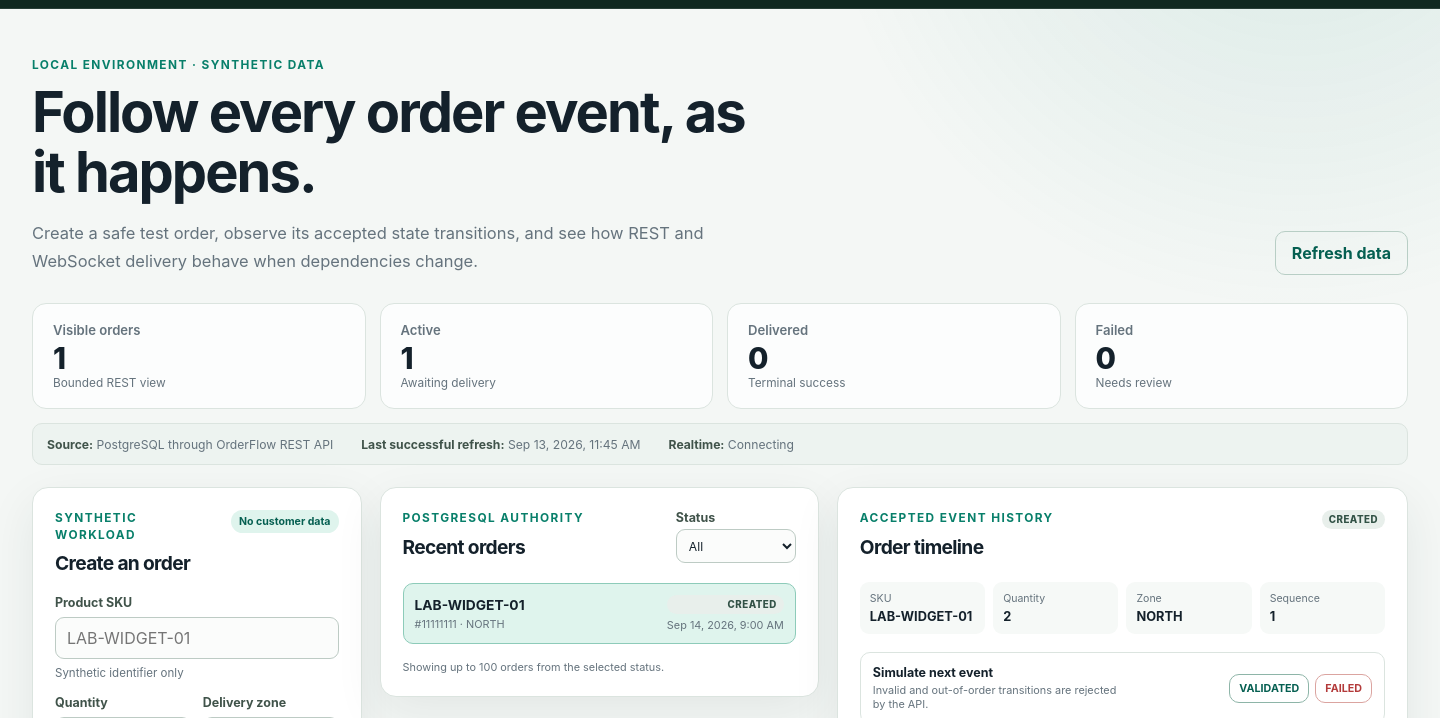
Test: OrderFlow dashboard › creates a validated synthetic order with the documented request shape
Check: the button "LAB-WIDGET-01" is shown, box [402,583,796,644]
In the field labelled "Product SKU": (197, 638) [55,617,338,659], type "demo-part-02"
(page scrolled)
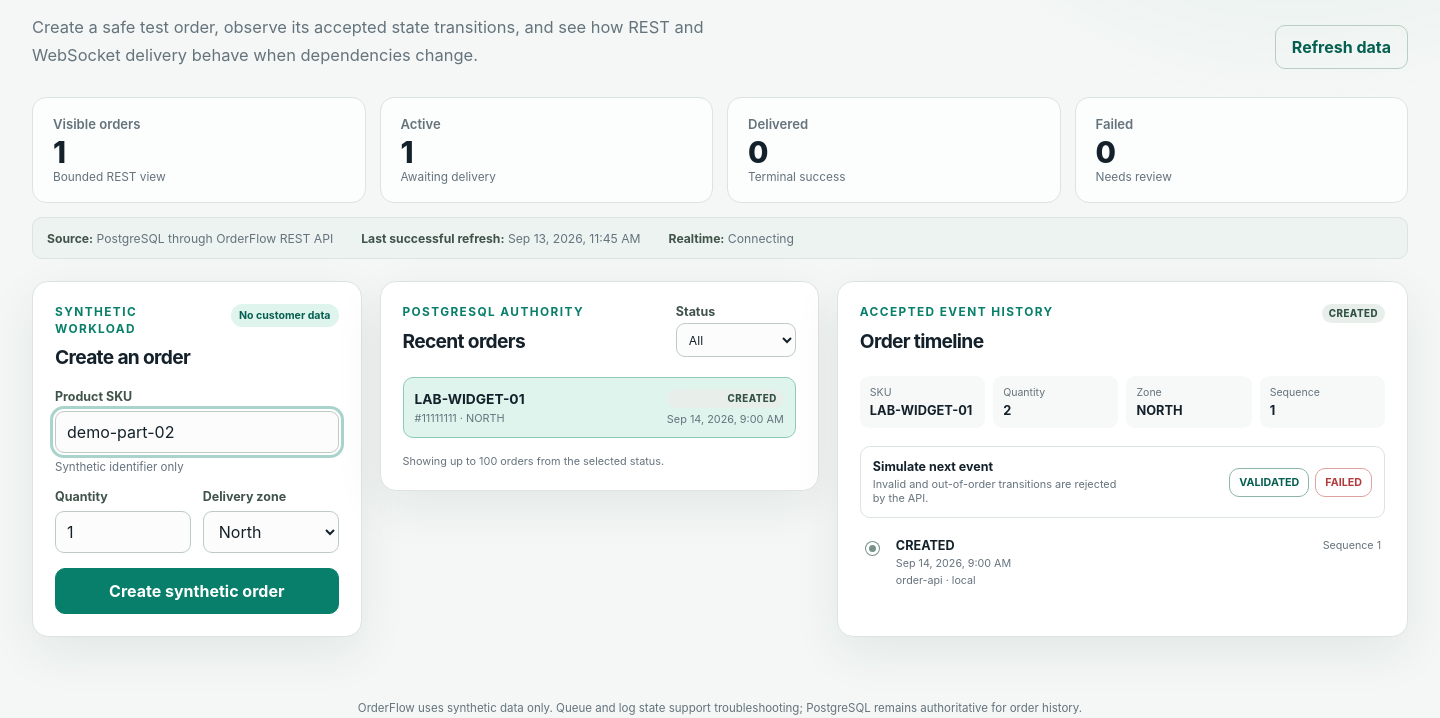
Replace the text in the number field labelled "Quantity" with "4": (123, 532) [55,511,191,553]
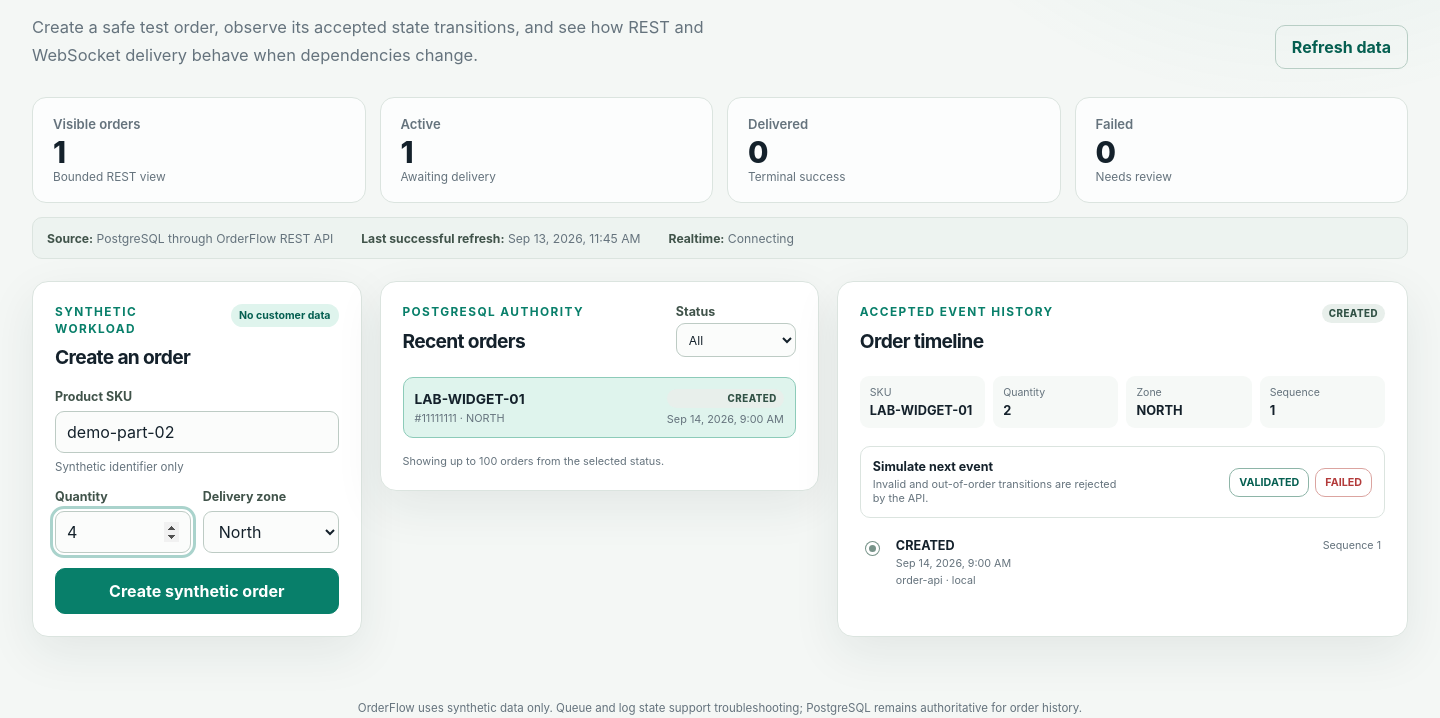
Select "West" in the dropdown labelled "Delivery zone": (271, 532) [203,511,339,553]
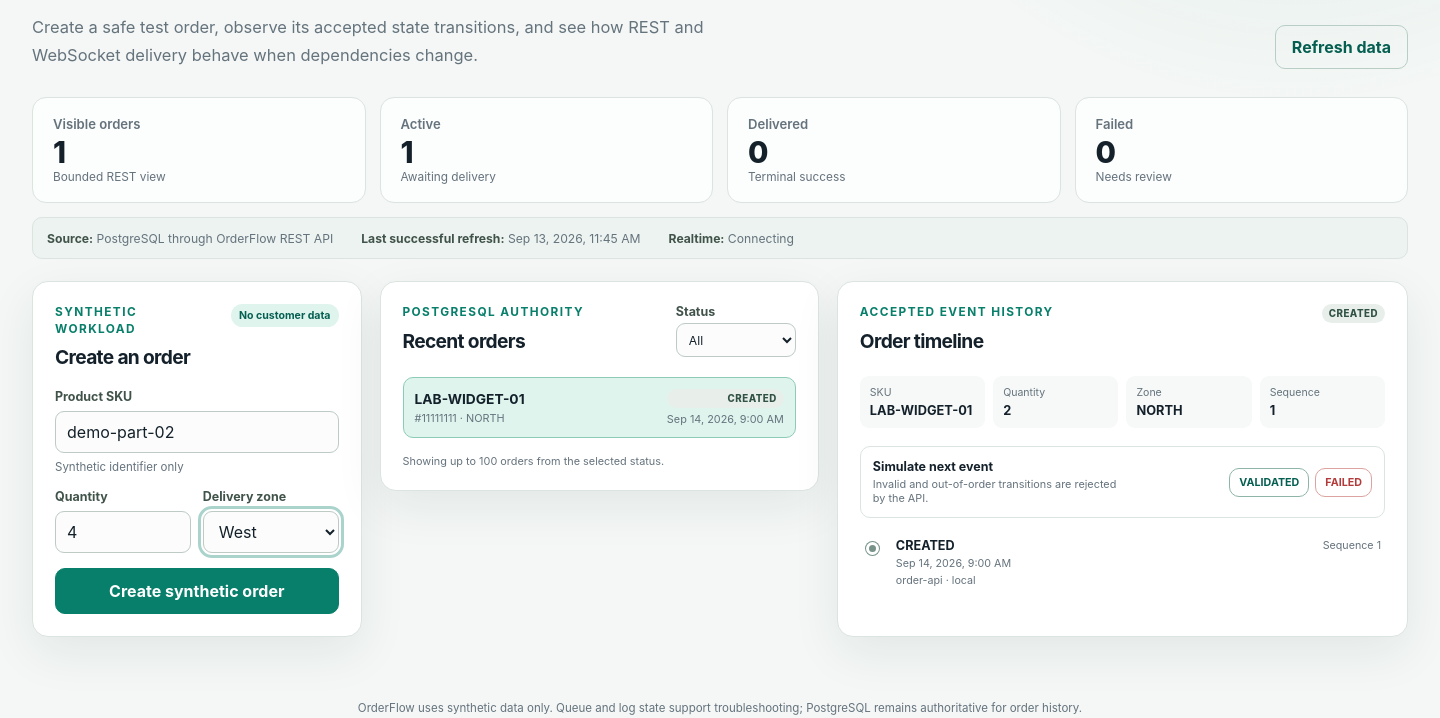
Click the button "Create synthetic order": click(197, 591) [55,568,338,614]
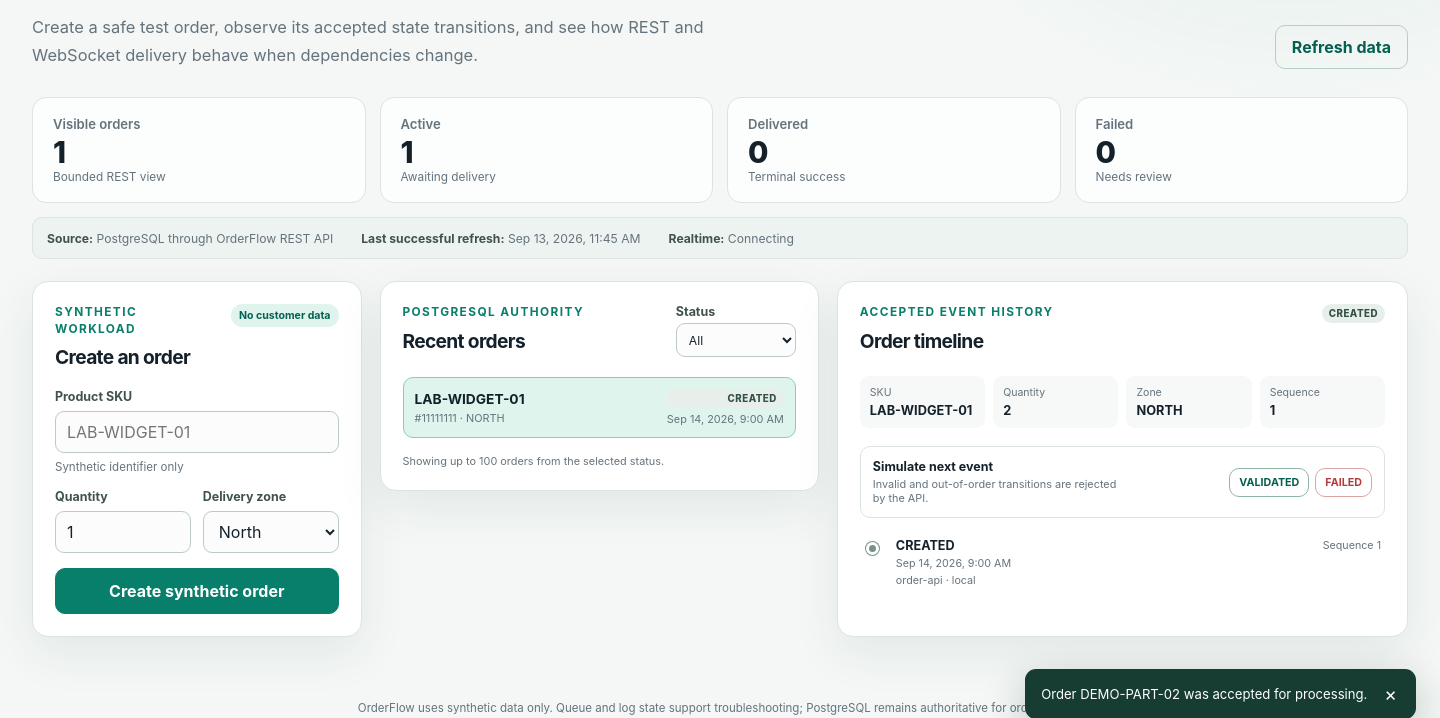
Check: the text "Order DEMO-PART-02 was accepted for processing." is shown, box [1041,686,1367,702]
